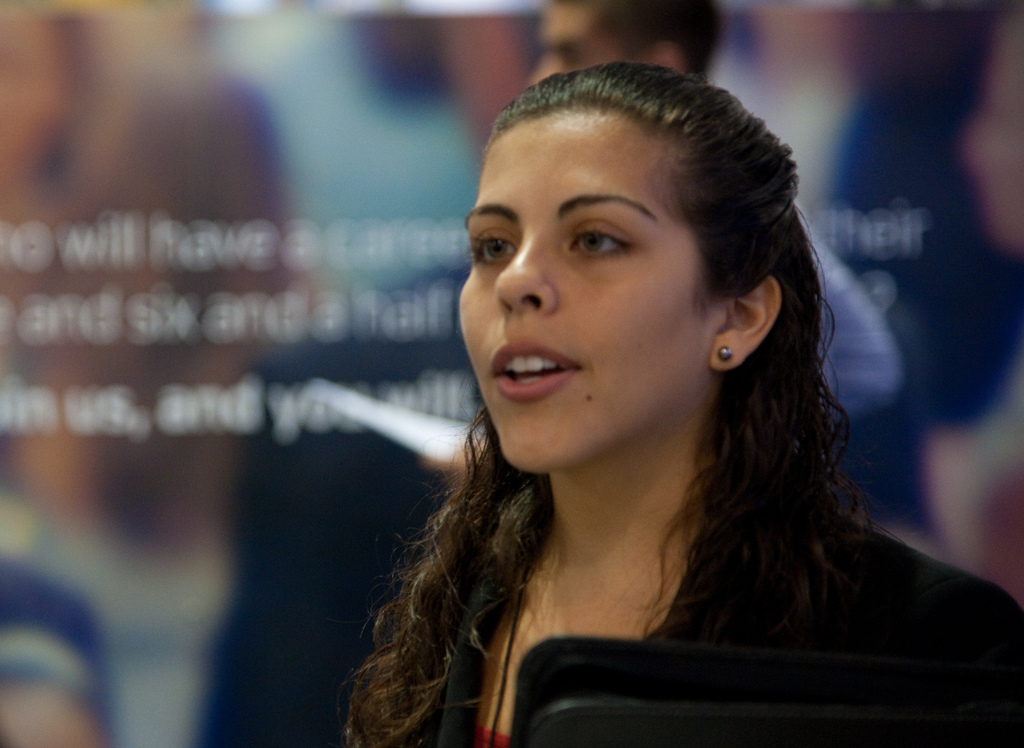person: (524, 0, 728, 96)
